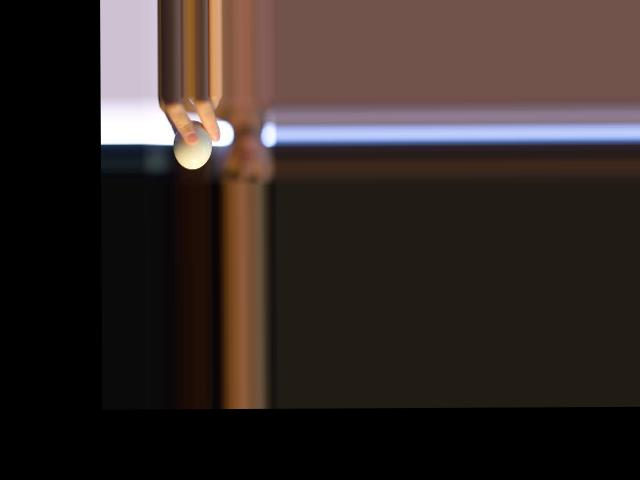egg: (174, 119, 213, 169)
